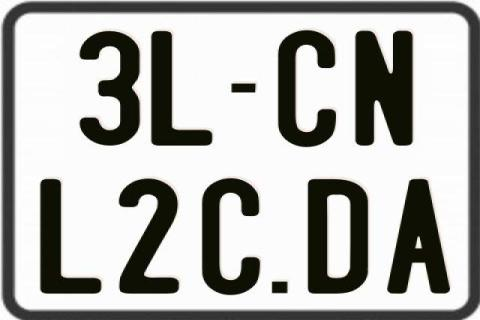0: (77, 29, 141, 145), (118, 179, 180, 295)
A: (384, 179, 453, 297)
C: (276, 30, 338, 148), (200, 176, 260, 297)
D: (308, 180, 370, 298)
L: (150, 31, 216, 148), (38, 180, 99, 294)
N: (355, 29, 416, 148)
